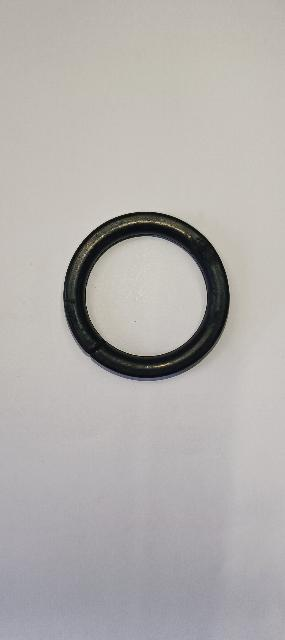scratch: (79, 331, 114, 361)
